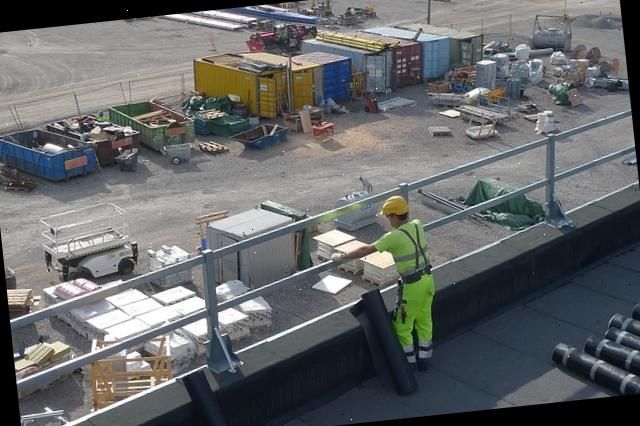helmet: (377, 193, 410, 218)
wear: (384, 226, 429, 286)
